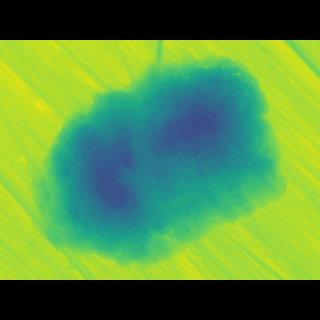Loch: (16, 79, 285, 241)
